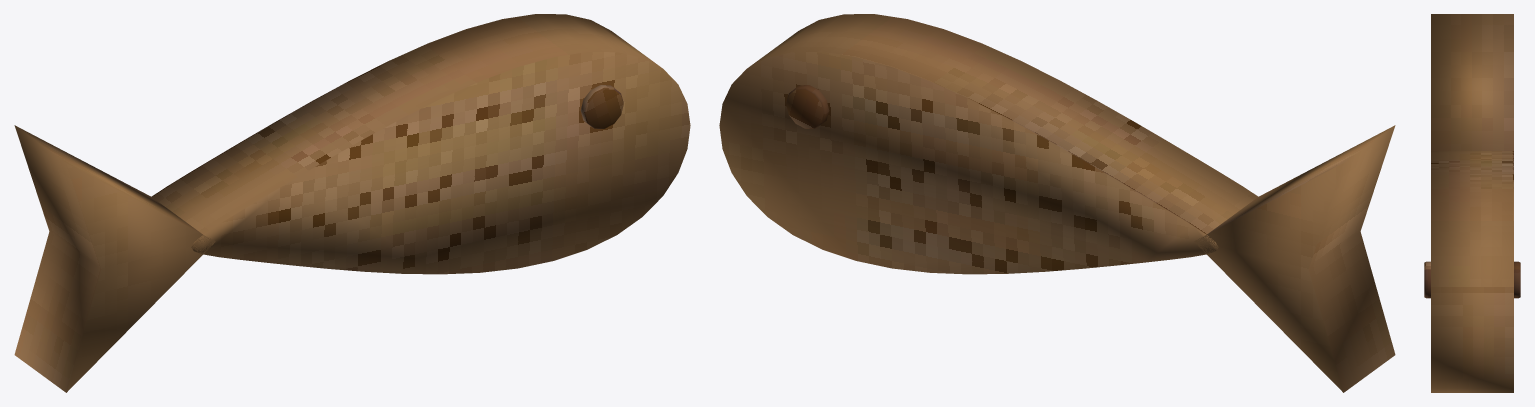
The model's file is taiyaki.glb.
The picture shows the model from 3 angles, left to right: view 1: azimuth 30°, elevation 25°; view 2: azimuth 150°, elevation 25°; view 3: azimuth 270°, elevation 25°; orthographic projection. The views are drawn at different scales.
Parts seen in each view (by area): view 1: prop_taiyaki_felt; view 2: prop_taiyaki_felt; view 3: prop_taiyaki_felt.
Part boxes in pixels (x1=…): prop_taiyaki_felt: x1=14, y1=14, x2=690, y2=392; prop_taiyaki_felt: x1=719, y1=14, x2=1395, y2=392; prop_taiyaki_felt: x1=1424, y1=14, x2=1520, y2=392.
Bounding box in the file's own units: 0.1875 × 0.066 × 0.0315.
Materials: 1 (1 with a texture image).
